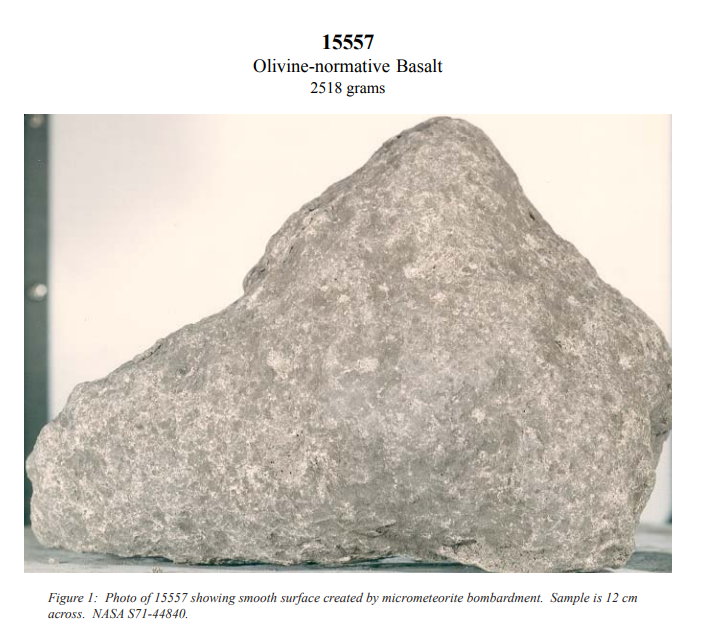Basalt: (65, 150, 677, 583), (305, 326, 546, 464)
